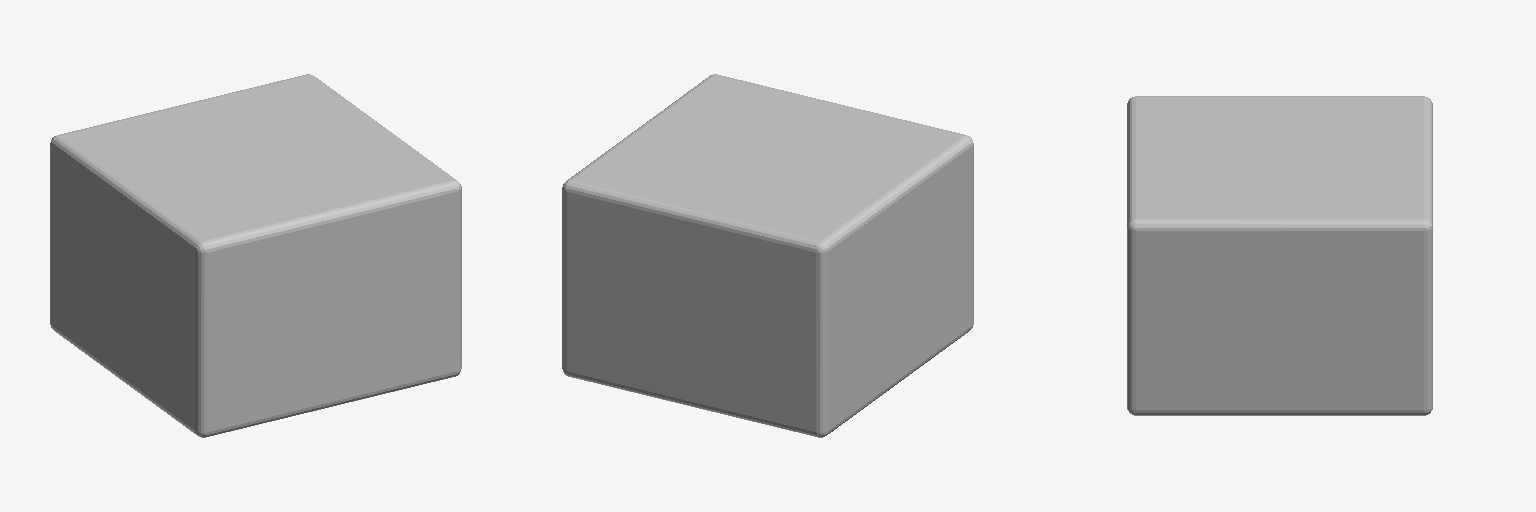
File: cj_middle.obj
3 views of the same model, side by side, from view 1: azimuth 30°, elevation 25°; view 2: azimuth 150°, elevation 25°; view 3: azimuth 270°, elevation 25° (orthographic).
Size of the model in its own units: 0.017 by 0.012 by 0.017.